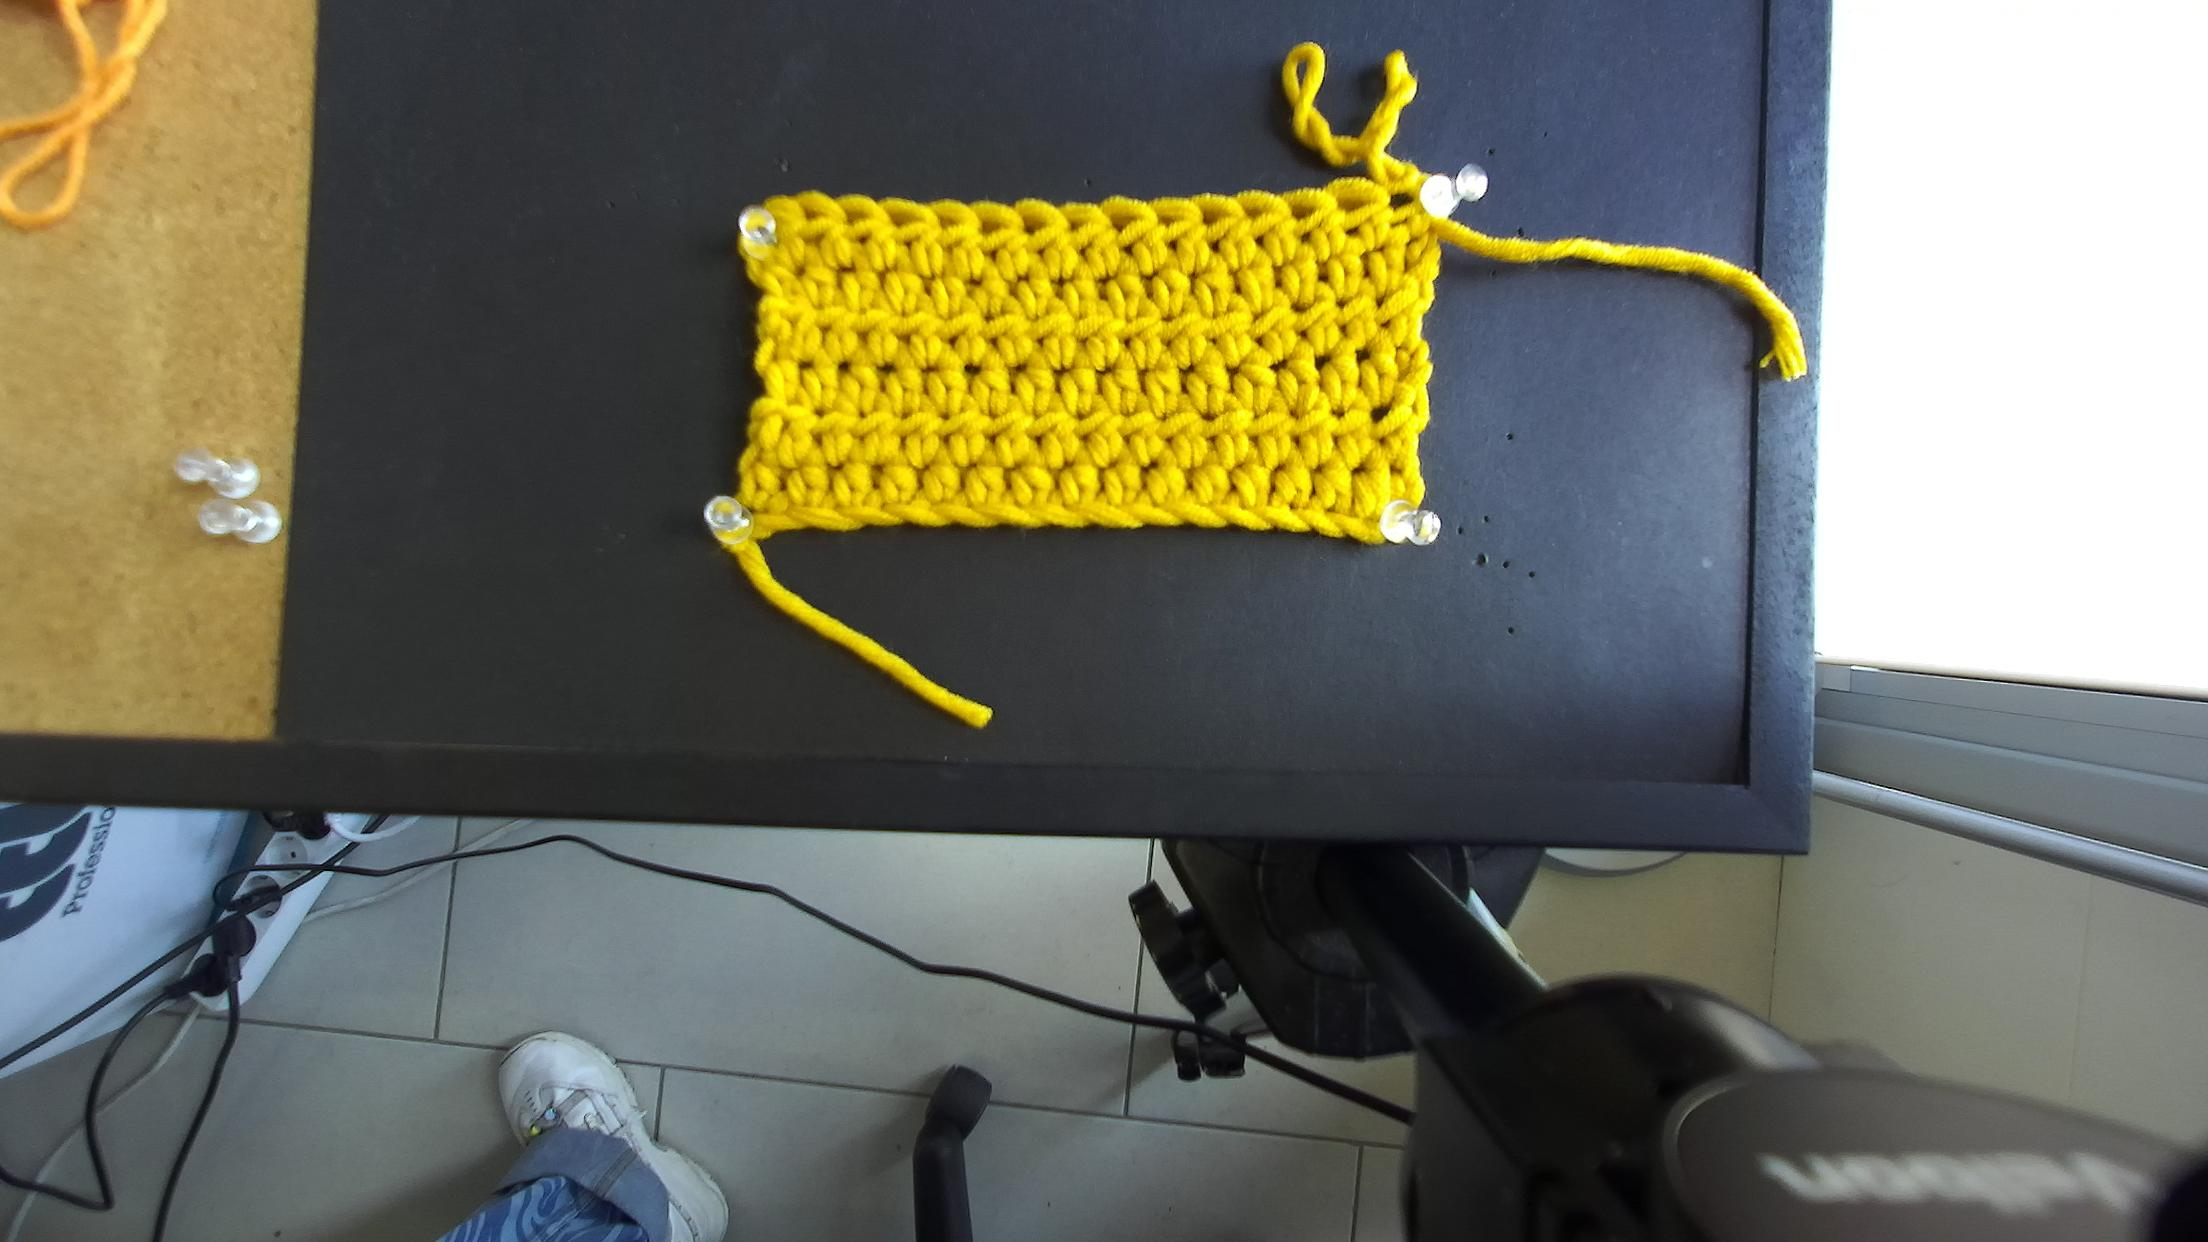hole: (840, 205, 872, 226), (884, 209, 924, 226), (1109, 212, 1140, 232), (977, 217, 1007, 237), (1156, 209, 1187, 227), (1336, 197, 1371, 212), (933, 212, 961, 231), (1201, 208, 1230, 226), (1062, 212, 1087, 232), (1388, 191, 1413, 209), (799, 203, 826, 220), (1022, 217, 1045, 237), (1291, 203, 1315, 220), (1242, 205, 1269, 218)
swatch: (729, 161, 1444, 549)
